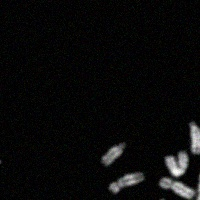chromosome: (109, 170, 144, 195), (160, 176, 196, 197), (165, 150, 189, 176), (100, 142, 125, 165), (188, 121, 200, 153), (196, 154, 200, 200), (127, 199, 169, 200)
